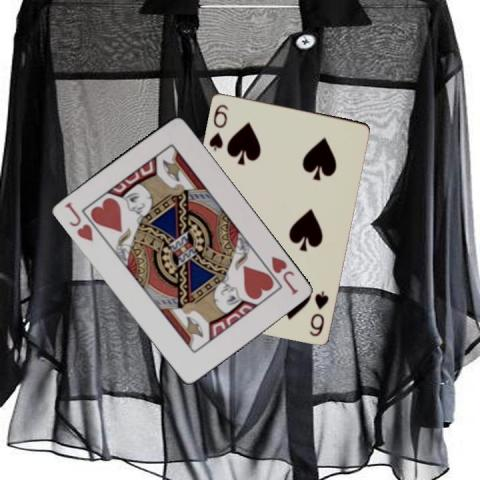6s: (206, 101, 230, 152), (306, 287, 330, 338)
Jh: (61, 199, 94, 243), (268, 253, 300, 296)
